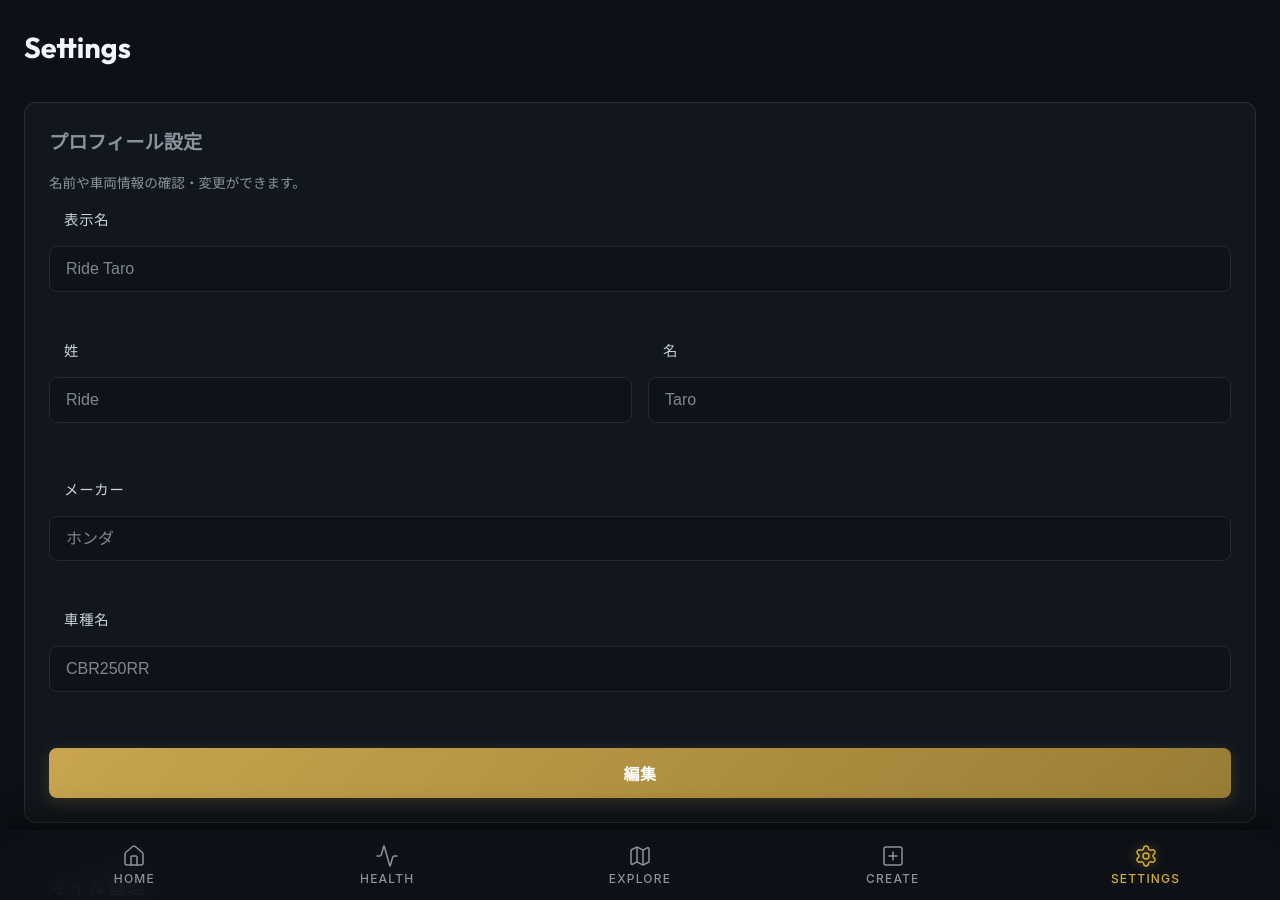
Scenario: SettingPage › ST-UT-002/ST-UT-003 プロフィール編集開始とキャンセル: 入力活性化後に元の値へ戻す
Step 1. Click the button "編集" → [640, 773], box [49,748,1231,798]
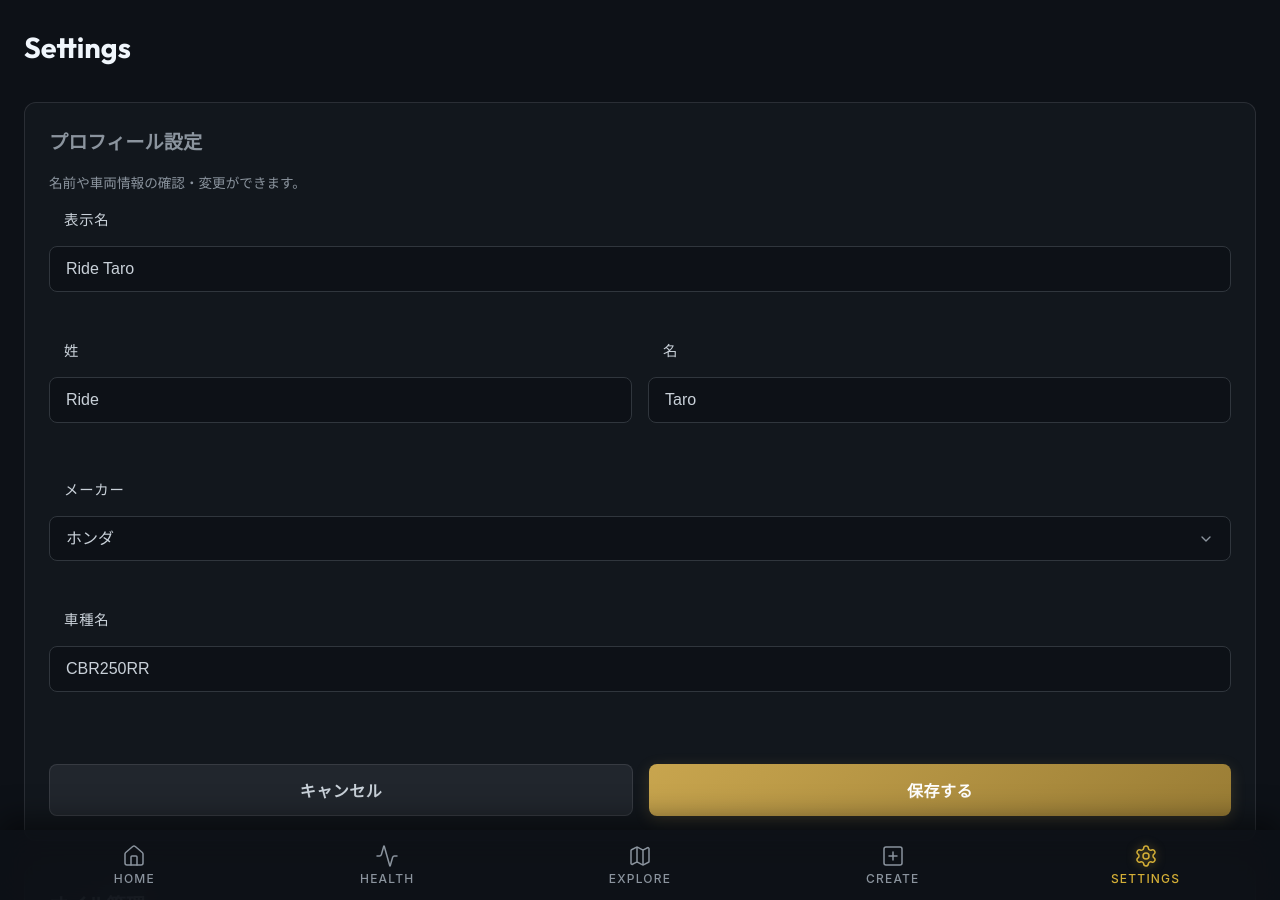
Step 2. Replace the text in the field below "表示名" with "Updated Name" → [640, 269], box [49,246,1231,292]
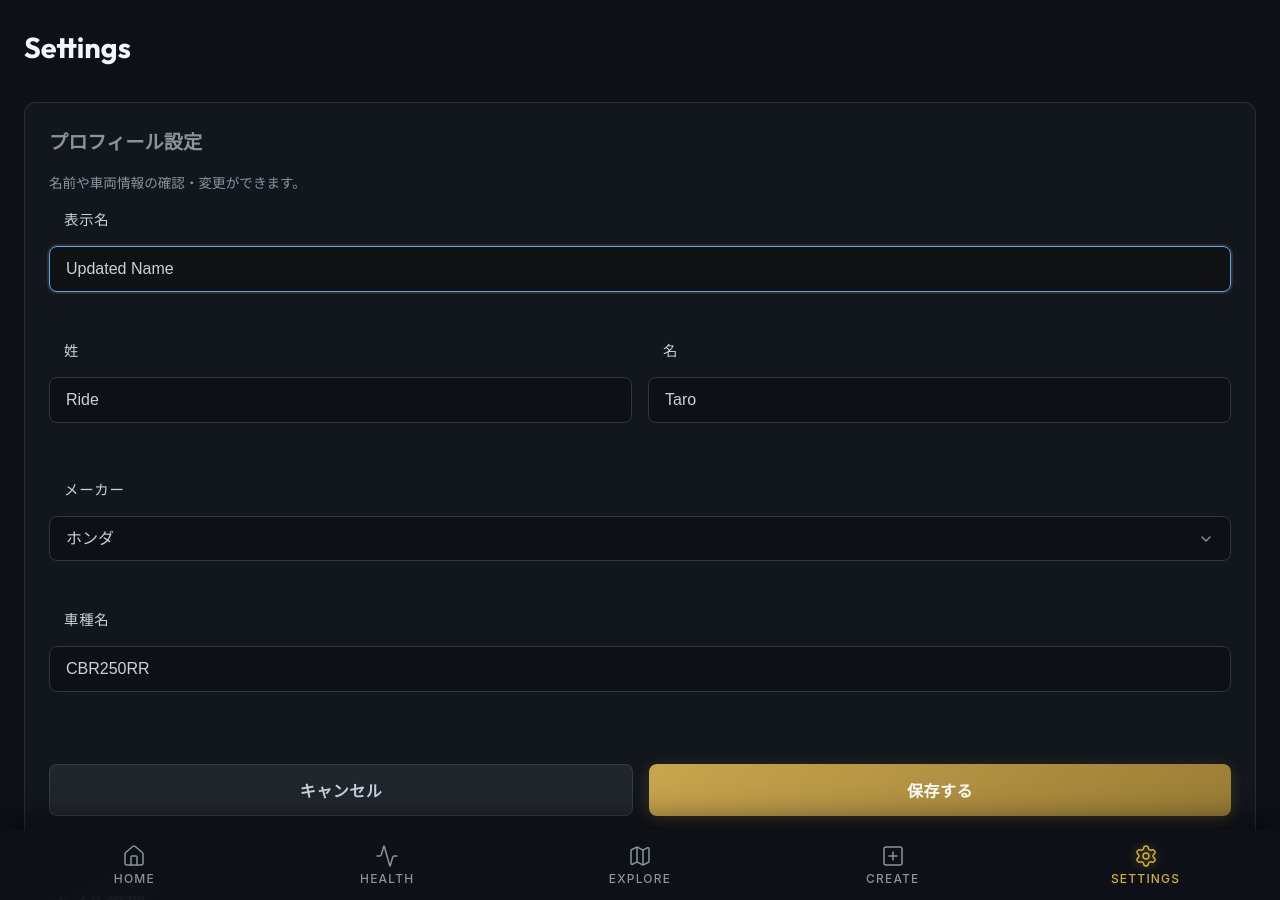
Step 3. Click the button "キャンセル" → [341, 790], box [49,764,633,816]
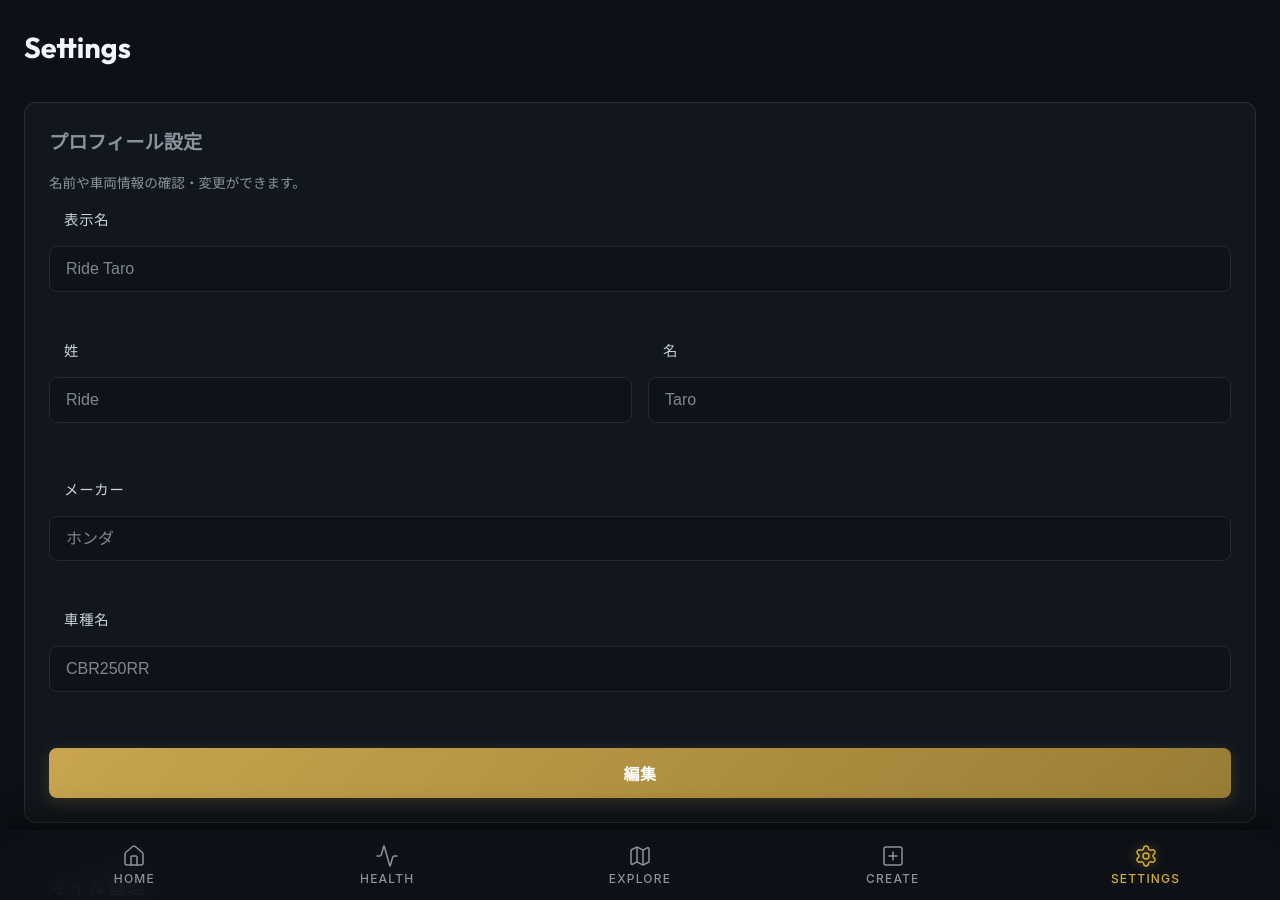
Check: the button "編集" is shown, box [49,748,1231,798]
